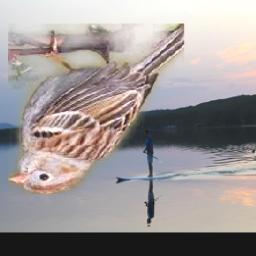Sparrow: (8, 24, 184, 194)
